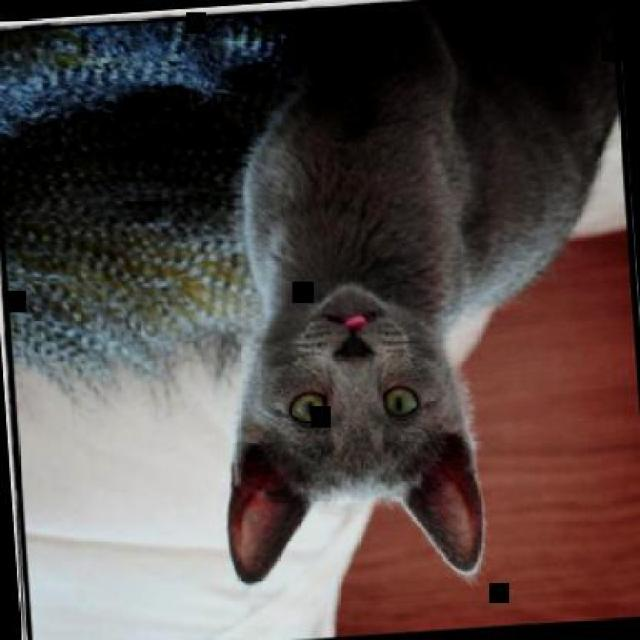cat: (191, 0, 638, 597)
